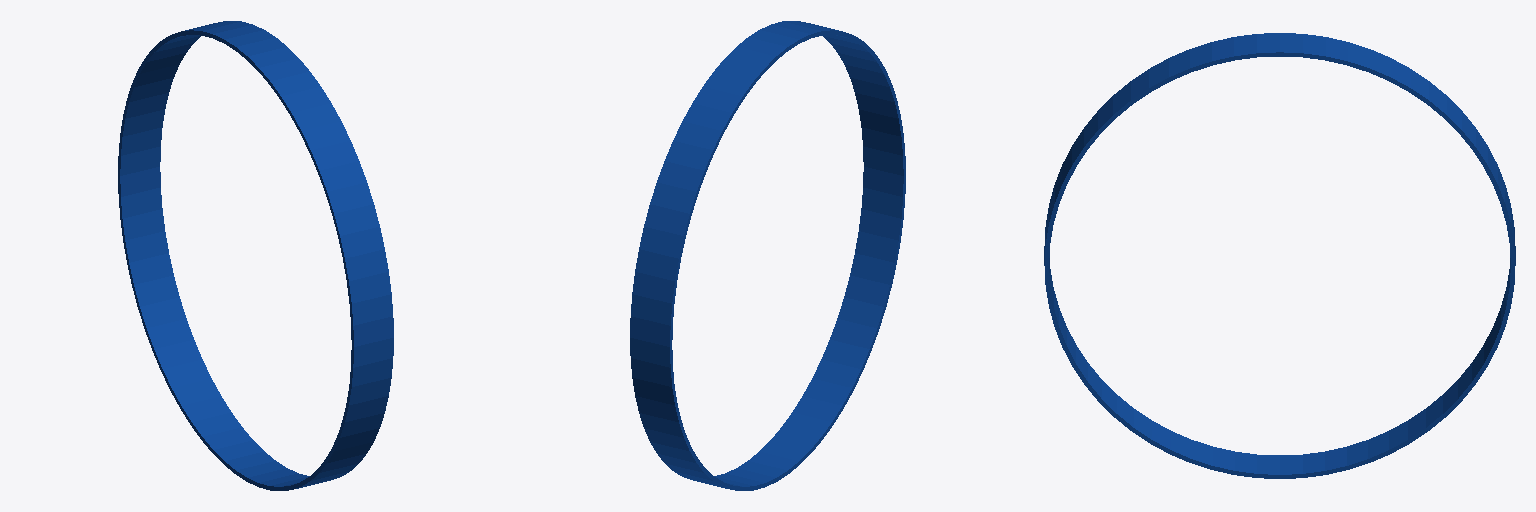
The robot description file, URDF, robot "big-ring":
<?xml version="1.0" ?>
<robot name="big-ring">

  <material name="industrial-blue">
    <color rgba="0.11372549019607843 0.34509803921568627 0.6549019607843137 1" />
  </material>

  <link name="base" concave="yes">
    <visual>
      <origin rpy="0 0 0" xyz="0 0 0"/>
      <geometry>
        <mesh filename="big-ring.stl" scale="1 1 1"/>
      </geometry>
      <material name="industrial-blue"/>
    </visual>
    <collision concave="yes">
      <origin rpy="0 0 0" xyz="0 0 0"/>
      <geometry>
        <mesh filename="big-ring.stl" scale="1 1 1"/>
      </geometry>
    </collision>
    <inertial>
      <origin rpy="0 0 0" xyz="0 0 0"/>
      <mass value="0"/>
      <inertia ixx="0" ixy="0" ixz="0" iyy="0" iyz="0" izz="0"/>
    </inertial>
  </link>

</robot>

--- What the picture shows (computed from the rendered views, not written in the file) ---
3 views of the same robot in one strip: view 1: azimuth 30°, elevation 25°; view 2: azimuth 150°, elevation 25°; view 3: azimuth 270°, elevation 25° (orthographic).
Robot: big-ring — 1 links, 0 joints (none); root link base; default pose: every joint at zero.
Links seen in each view (by area): view 1: base; view 2: base; view 3: base.
Link boxes in pixels (left/top/right/bottom): base: left=118, top=21, right=393, bottom=490; base: left=630, top=21, right=905, bottom=490; base: left=1044, top=33, right=1515, bottom=478.
Size in the robot's own frame: 0.5 by 5.1 by 5.1 metres.
1 mesh visuals loaded from 1 distinct referenced files (1 binary STL).